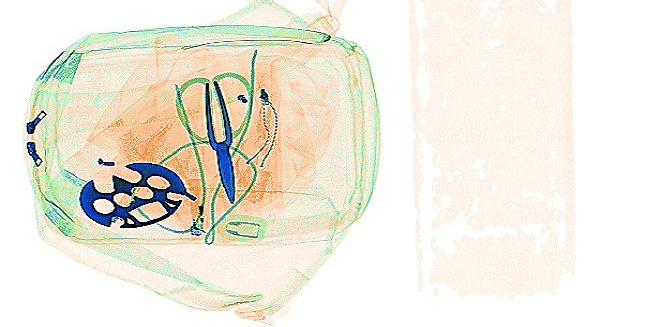lighter: (103, 172, 144, 223), (183, 176, 208, 237)
scissors: (173, 70, 254, 205)
